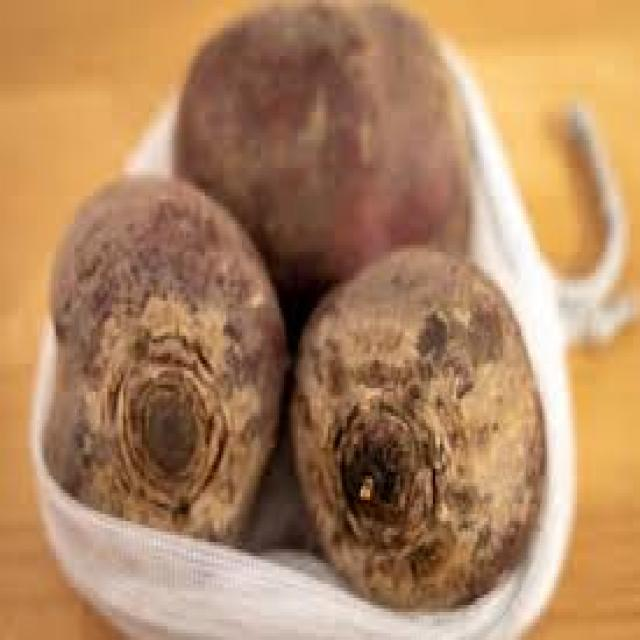organic waste: (170, 0, 472, 339), (286, 241, 545, 612), (42, 171, 284, 549)
